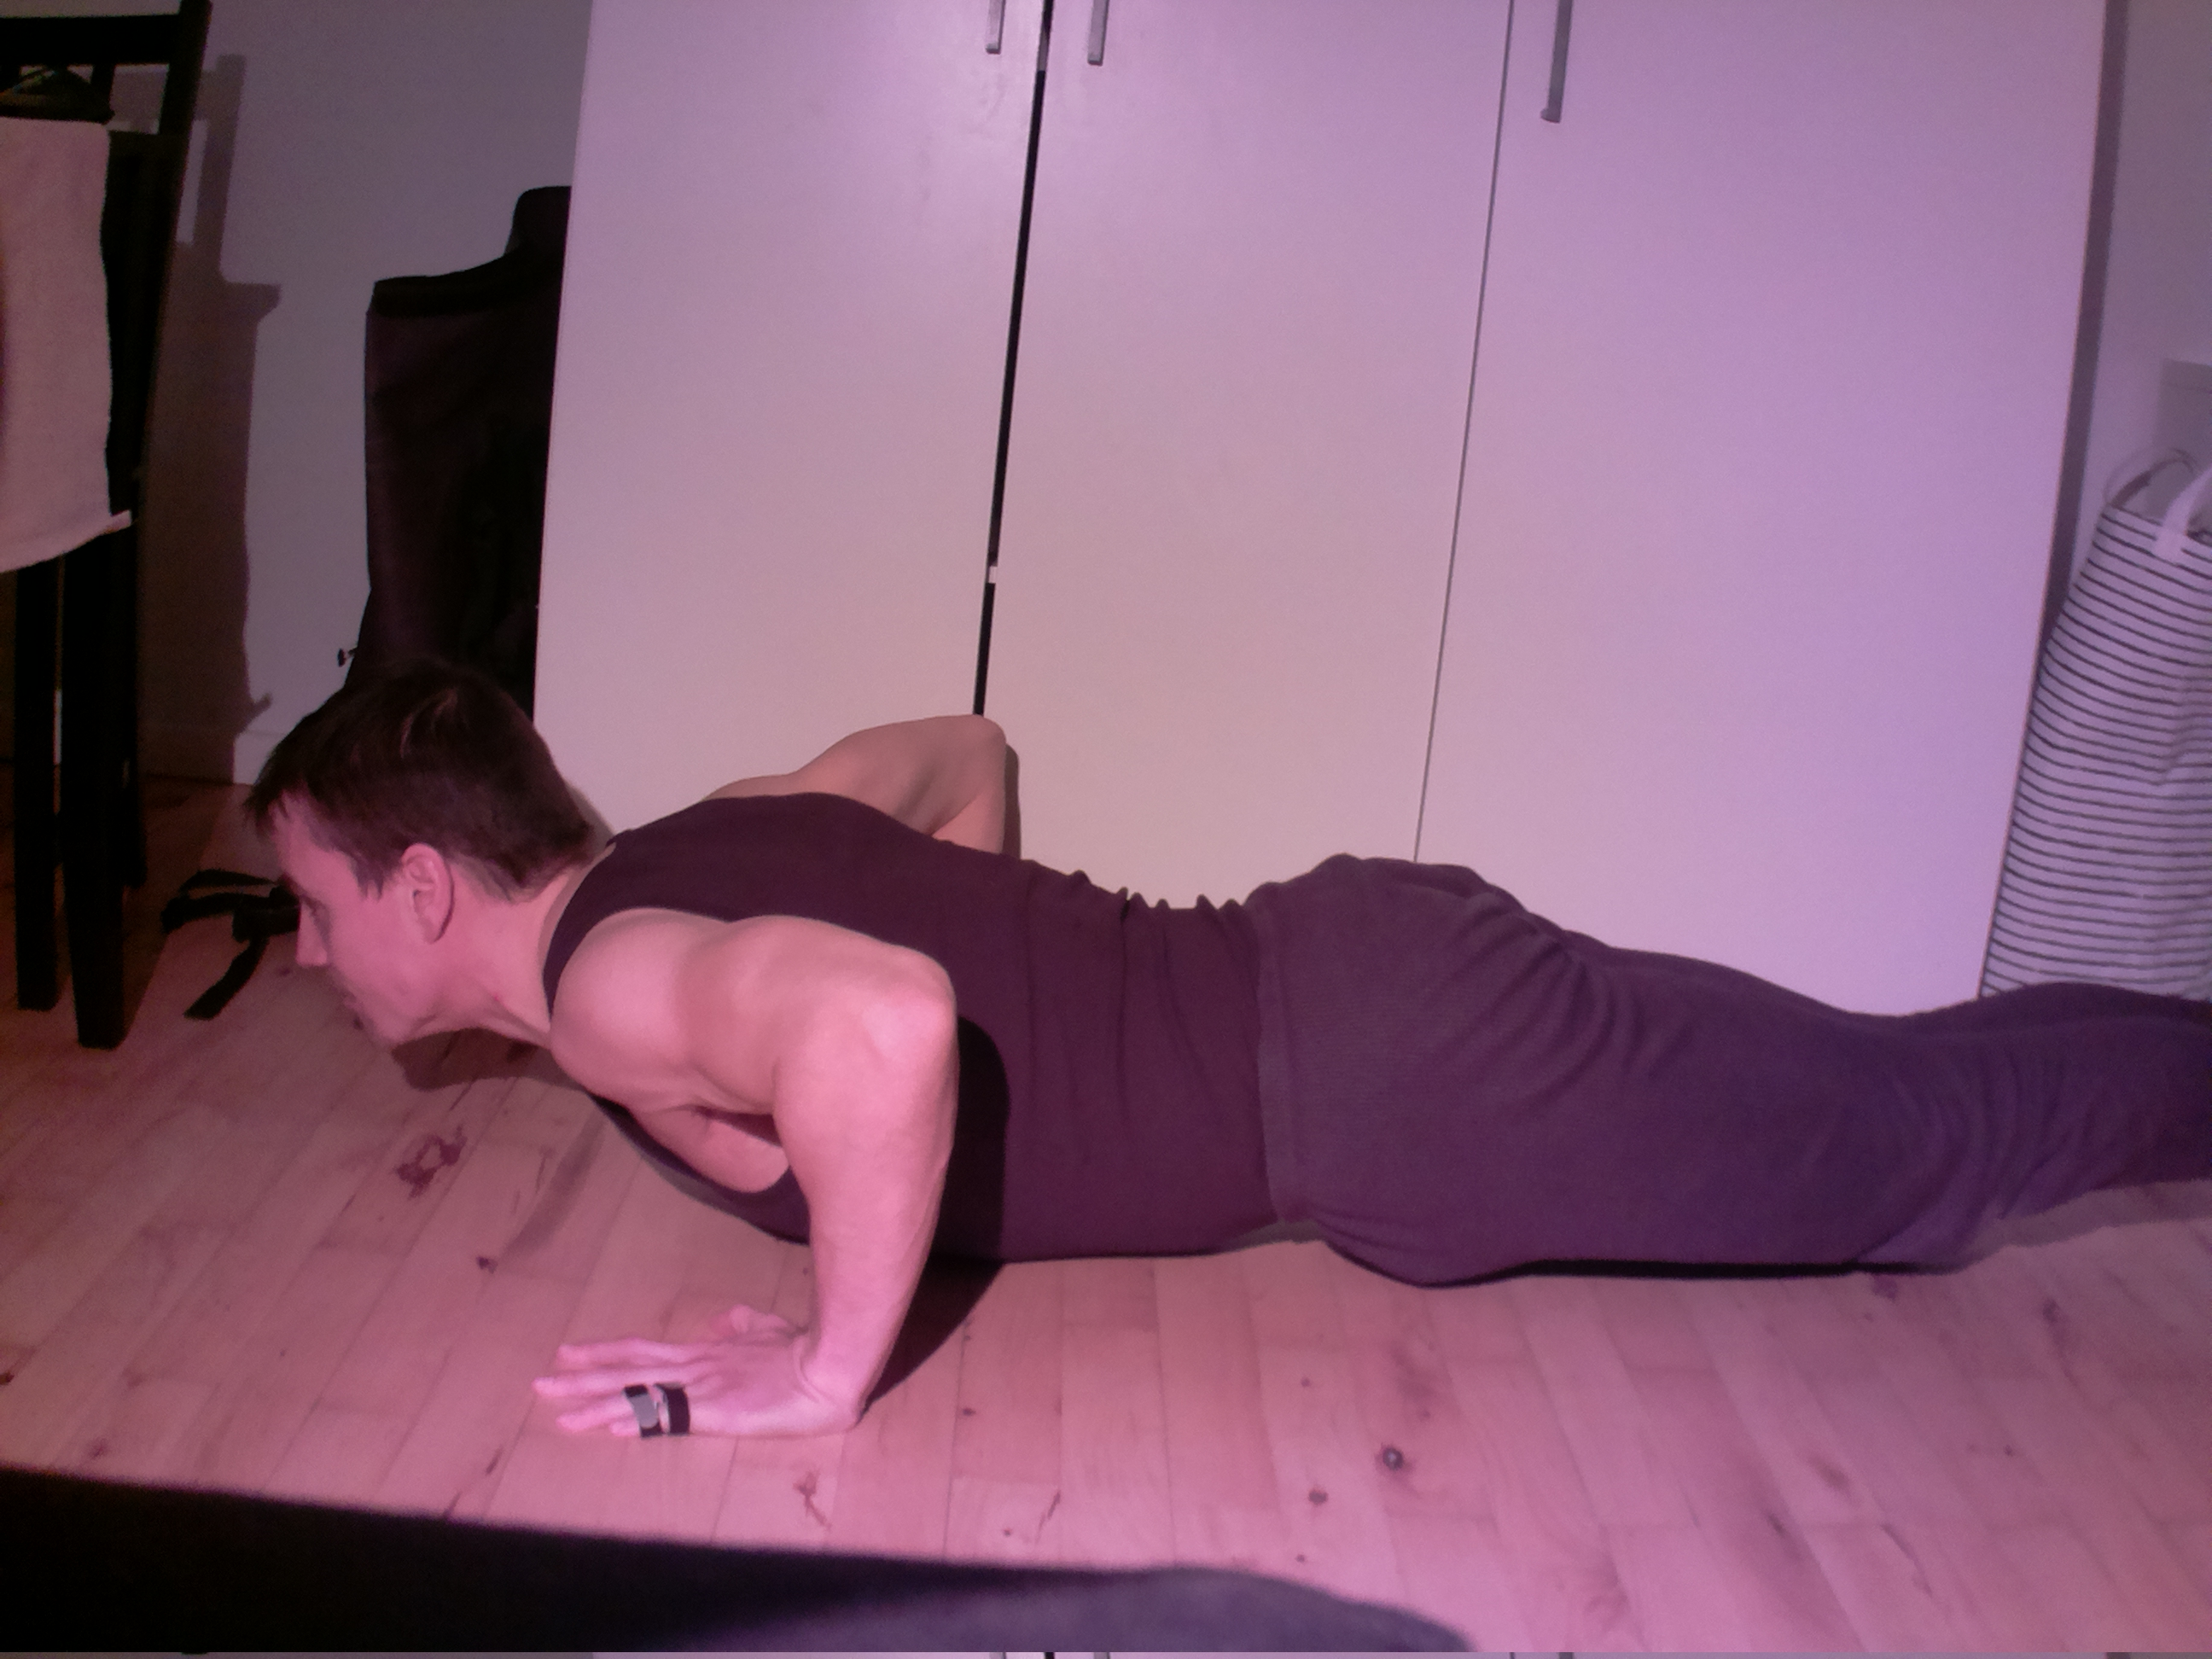CONAN: (232, 655, 1482, 1476)
